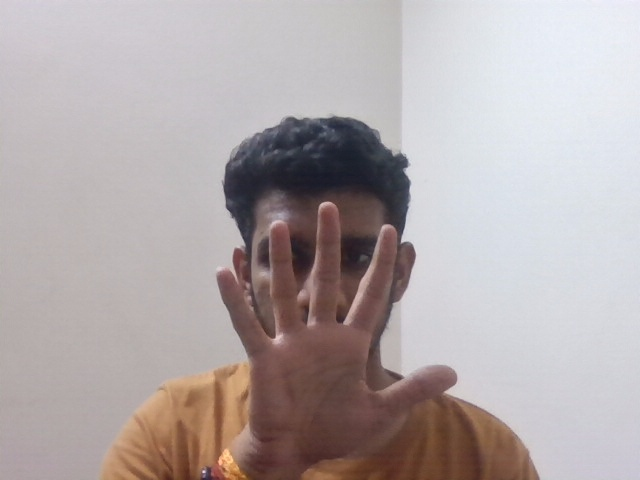hello: (204, 210, 476, 465)
